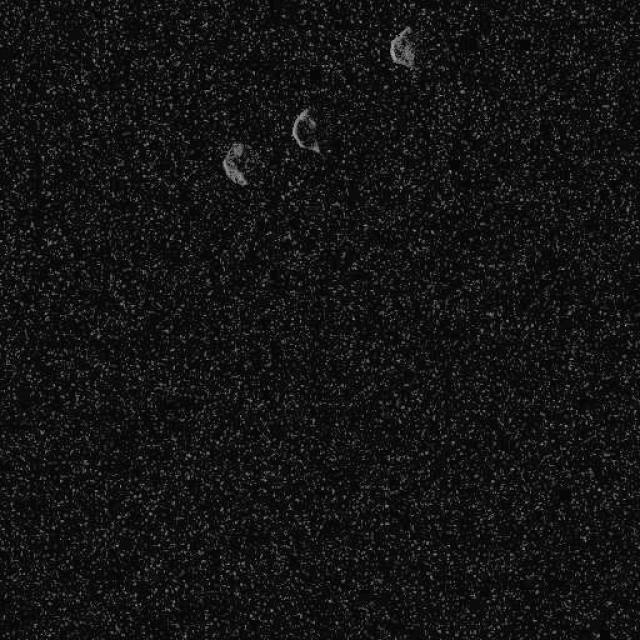D2: (290, 106, 321, 154), (221, 142, 249, 186), (389, 25, 416, 69)
